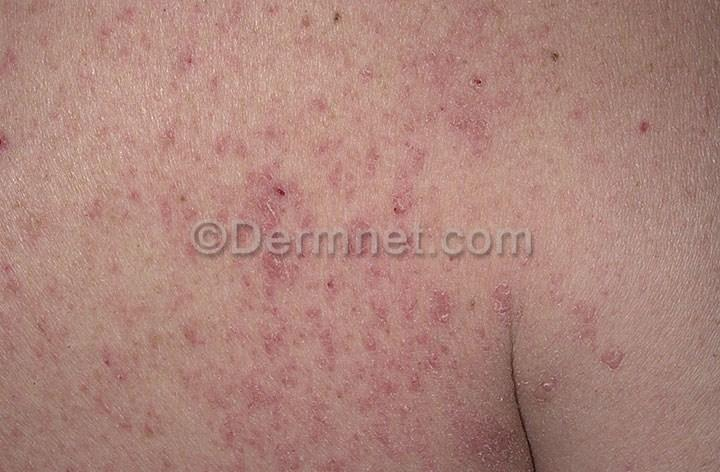Eczema: (186, 260, 640, 472), (2, 0, 323, 220), (323, 0, 588, 222), (0, 223, 182, 472)
